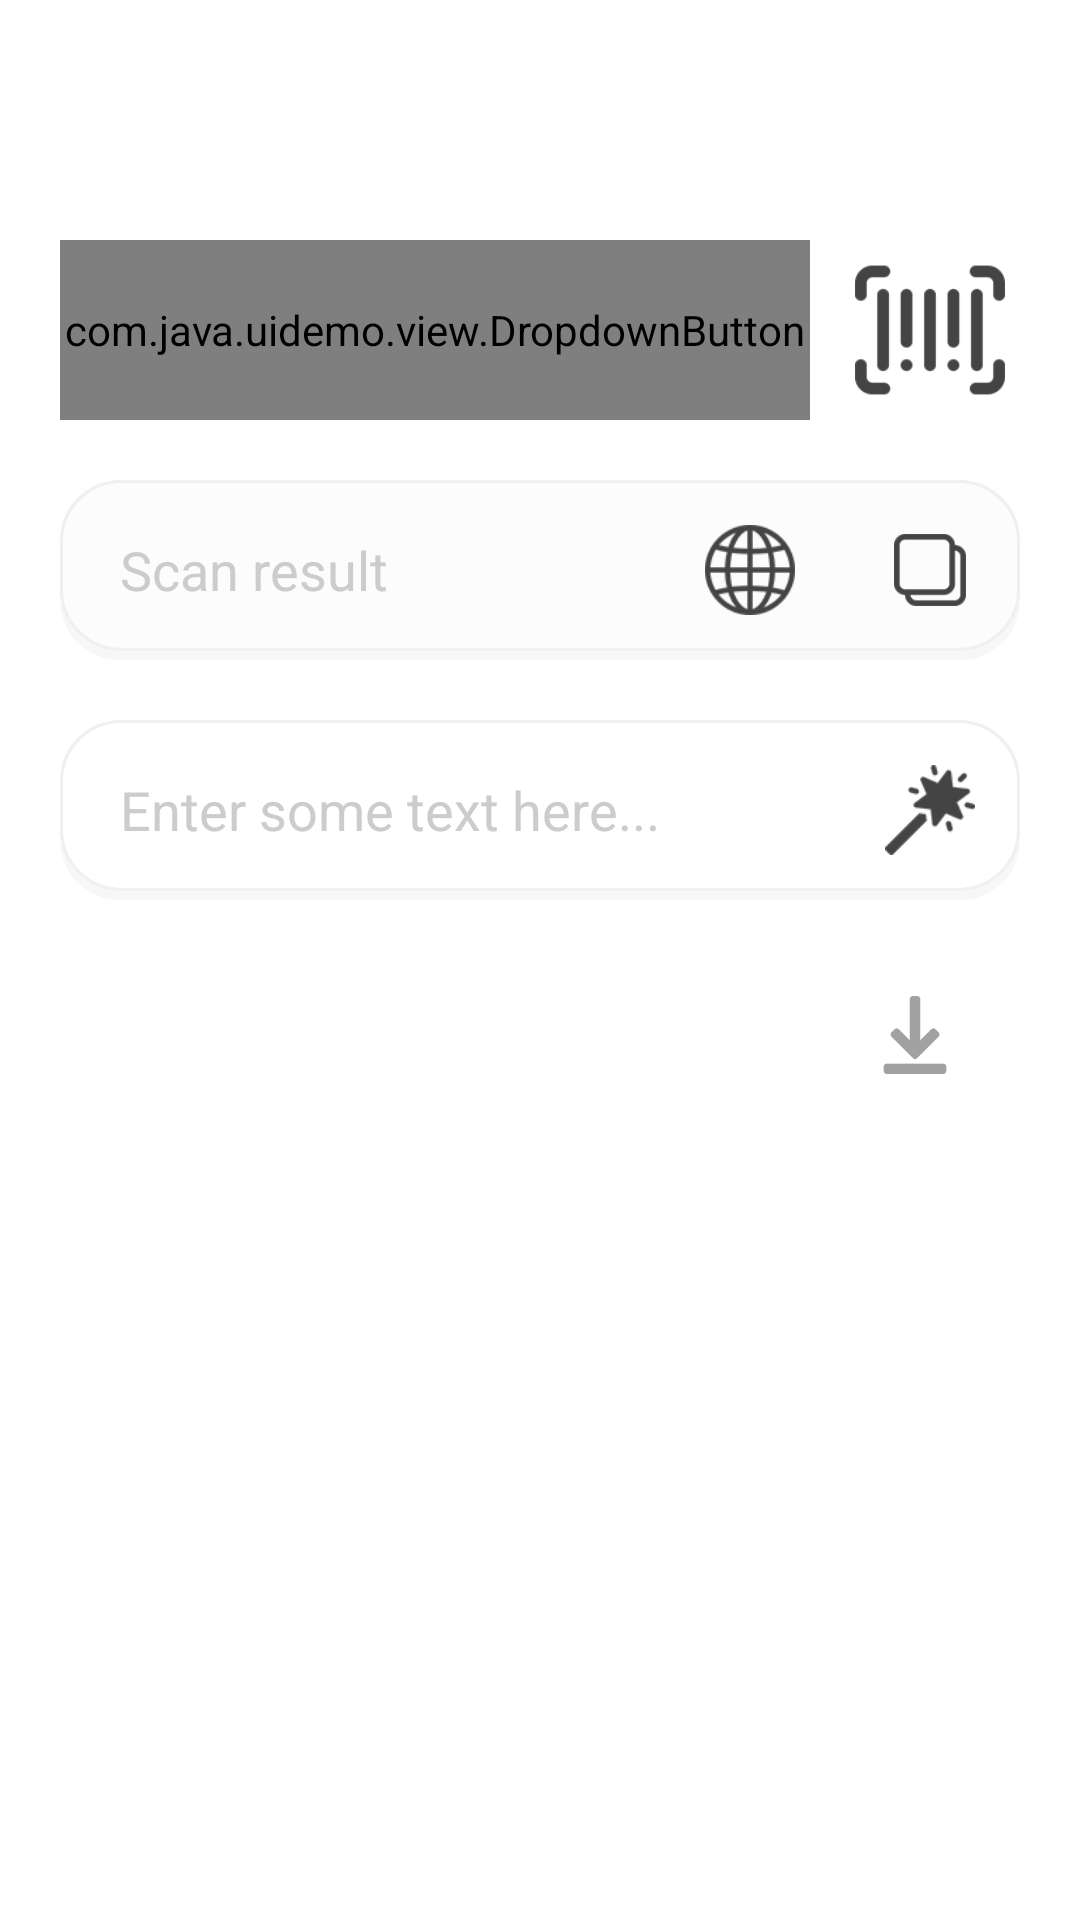

Screen size 1080px x 1920px. Icon name, then its box in pixels as (x1, y1, x2, y2):
create: (885, 765, 975, 855)
download: (883, 996, 947, 1074)
web: (705, 525, 795, 615)
